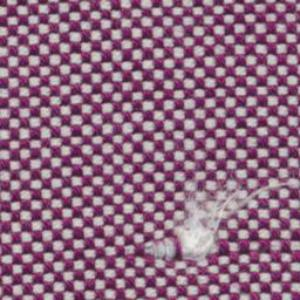fault: (129, 178, 291, 267)
